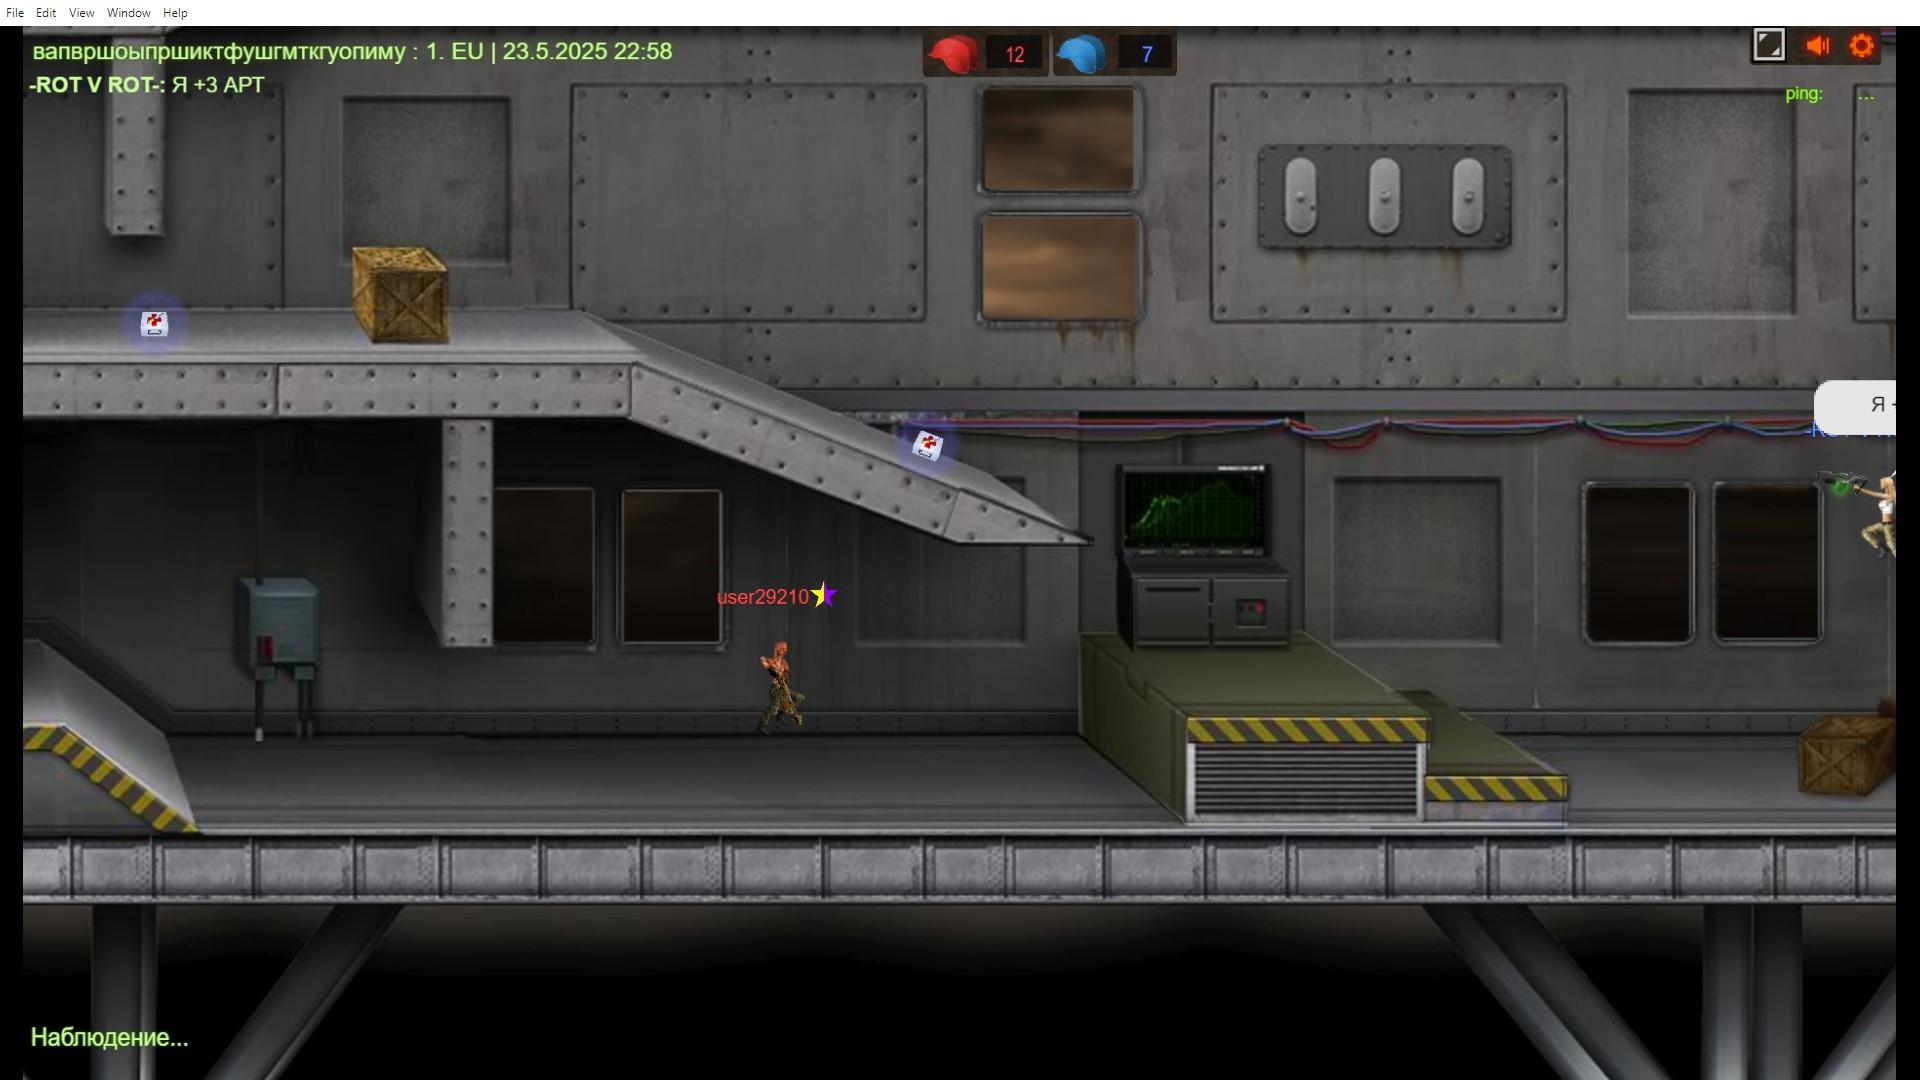enemy: (753, 633, 808, 740), (1865, 469, 1898, 556)
